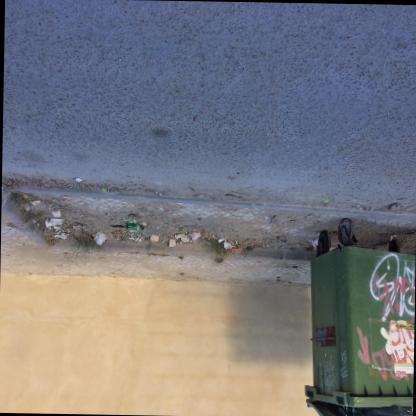Glass: (196, 217, 200, 220)
Paper: (310, 235, 317, 246), (222, 240, 230, 249), (109, 231, 113, 237), (100, 187, 105, 191), (156, 191, 160, 194), (357, 207, 362, 209), (80, 214, 84, 216)
Plastic: (353, 403, 412, 416), (125, 221, 143, 230), (48, 216, 64, 223), (389, 233, 395, 240), (322, 199, 327, 202), (154, 217, 157, 219)
Waste: (52, 231, 67, 238), (28, 199, 38, 204), (75, 176, 82, 181), (217, 237, 225, 241), (127, 236, 133, 239), (30, 218, 35, 221), (210, 233, 215, 236), (31, 180, 35, 183)
